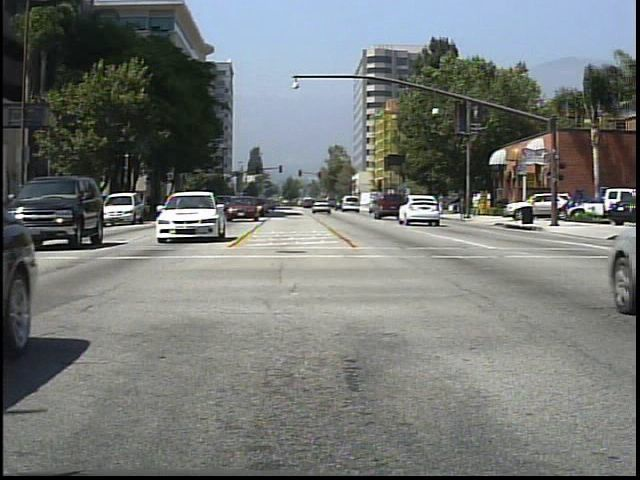person: (437, 192, 449, 218), (472, 192, 484, 218)
